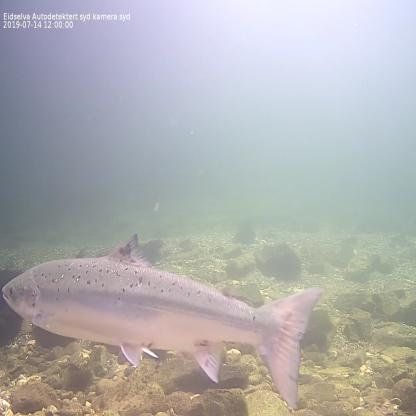salmon: (0, 231, 328, 412)
